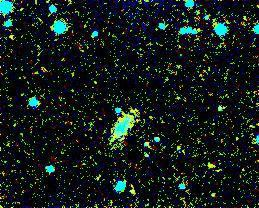star: (196, 151, 226, 181)
